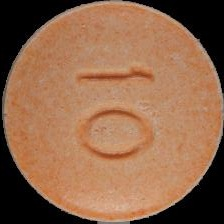69189-5554: (0, 0, 224, 224)
